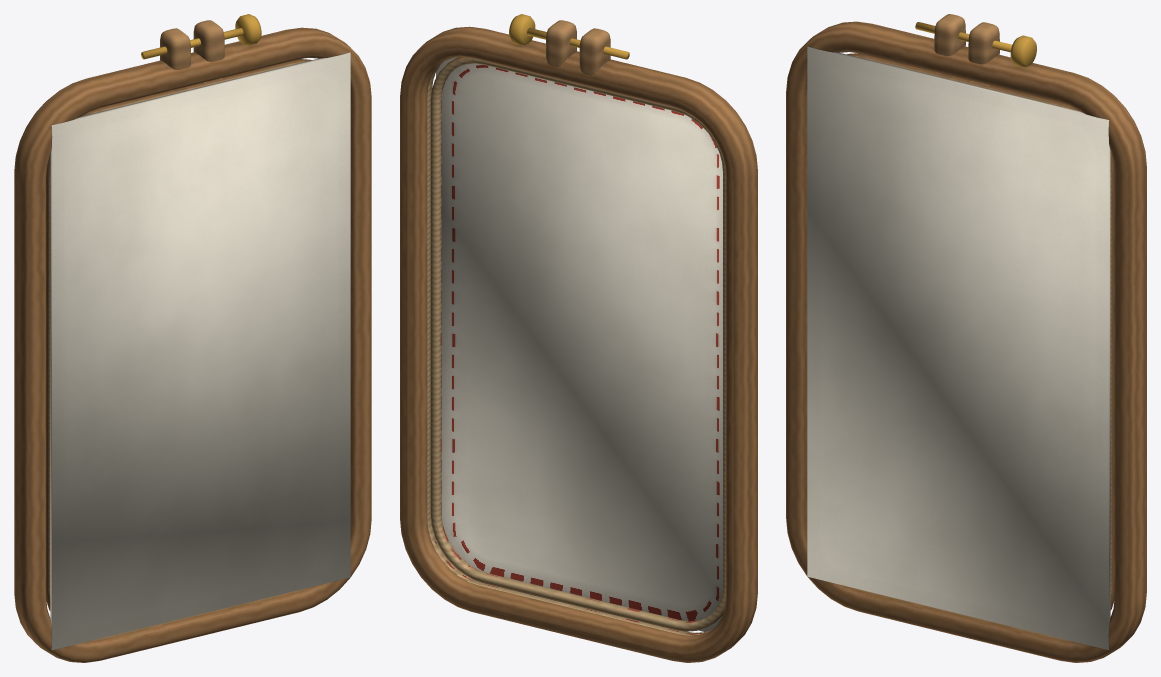
File: lodge_mirror.glb
The picture shows the model from 3 angles, left to right: view 1: azimuth 30°, elevation 25°; view 2: azimuth 150°, elevation 25°; view 3: azimuth 330°, elevation 25°; orthographic projection.
Visible parts, largest first — view 1: prop_lodge_mirror_felt, prop_lodge_mirror_wood, prop_lodge_mirror_brass; view 2: prop_lodge_mirror_felt, prop_lodge_mirror_wood, prop_lodge_mirror_brass; view 3: prop_lodge_mirror_felt, prop_lodge_mirror_wood, prop_lodge_mirror_brass.
Boxes of the visible parts, x1,y1,x2,y2 form: prop_lodge_mirror_felt: [50, 52, 350, 650]; prop_lodge_mirror_wood: [14, 20, 371, 662]; prop_lodge_mirror_brass: [141, 14, 261, 59]; prop_lodge_mirror_felt: [436, 57, 722, 631]; prop_lodge_mirror_wood: [400, 20, 757, 662]; prop_lodge_mirror_brass: [509, 14, 629, 59]; prop_lodge_mirror_felt: [807, 46, 1110, 649]; prop_lodge_mirror_wood: [786, 14, 1146, 662]; prop_lodge_mirror_brass: [915, 22, 1036, 67].
Bounding box in the file's own units: 3.1 × 5.15 × 0.26.
3 materials, 2 textured.
